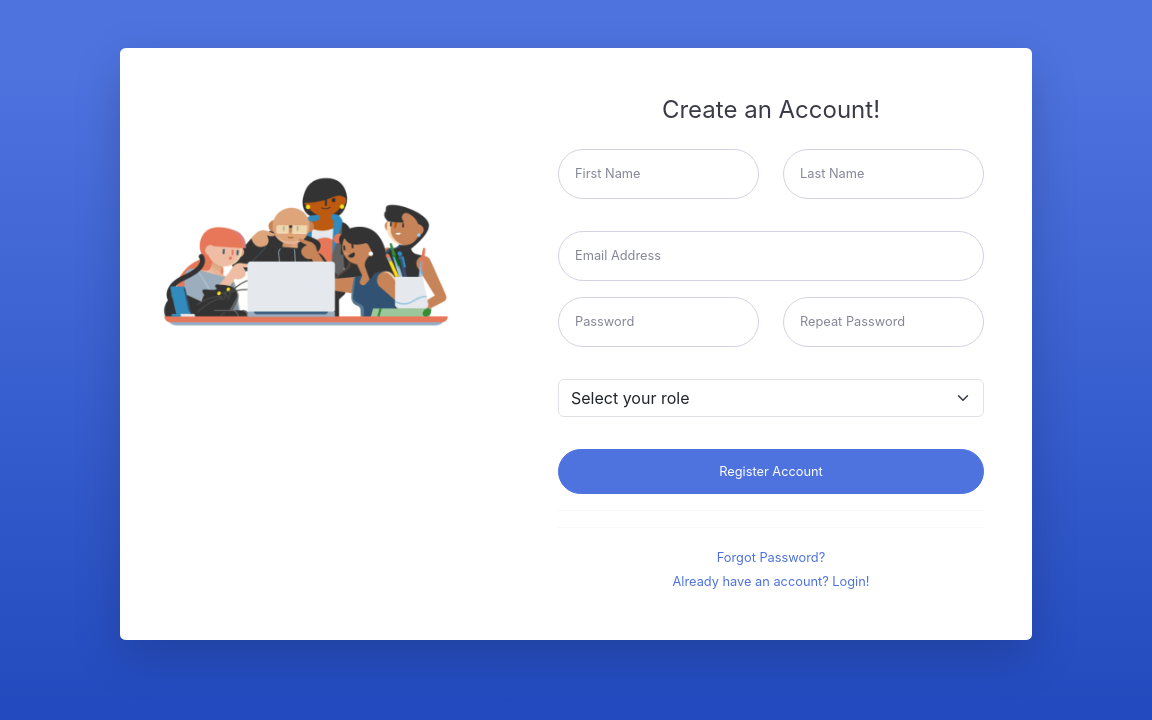
Scenario: Register Component › shows validation errors when submitting empty form
Click the button "Register Account".
click(771, 471)  # box [558, 449, 984, 494]
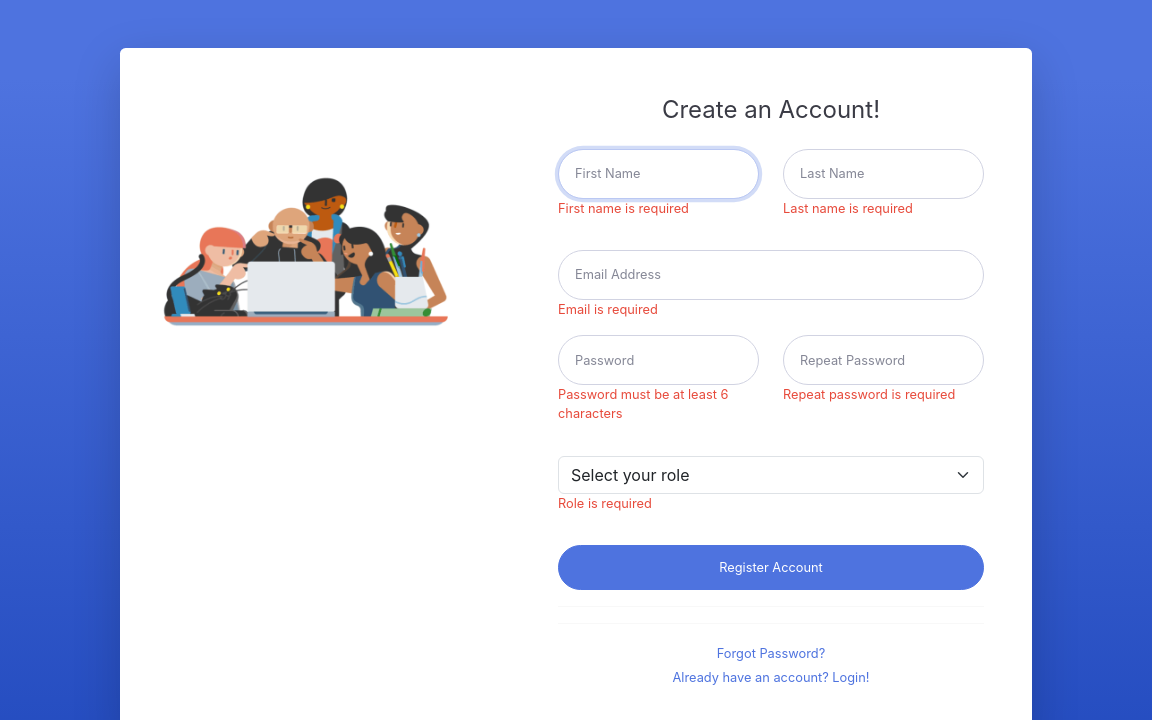
Expected: the text "First name is required" is shown, [558, 201, 689, 216]
Expected: the text "Last name is required" is shown, [783, 201, 913, 216]
Expected: the text "Email is required" is shown, [558, 302, 658, 317]
